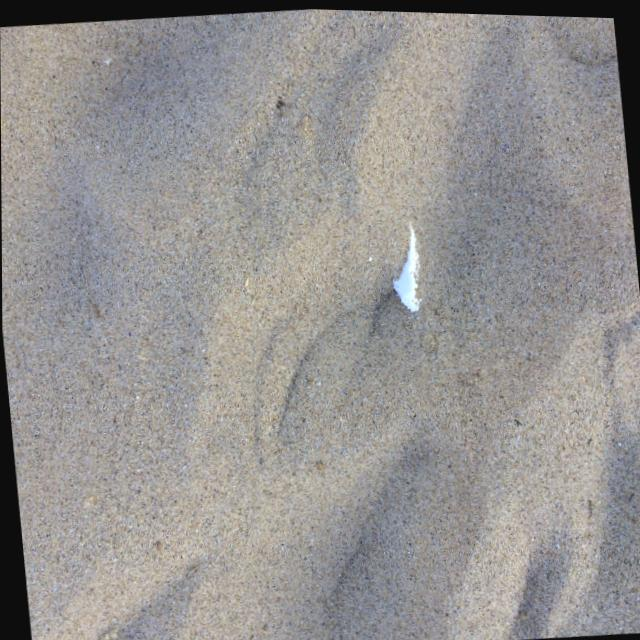Plastic: (383, 212, 432, 322)
